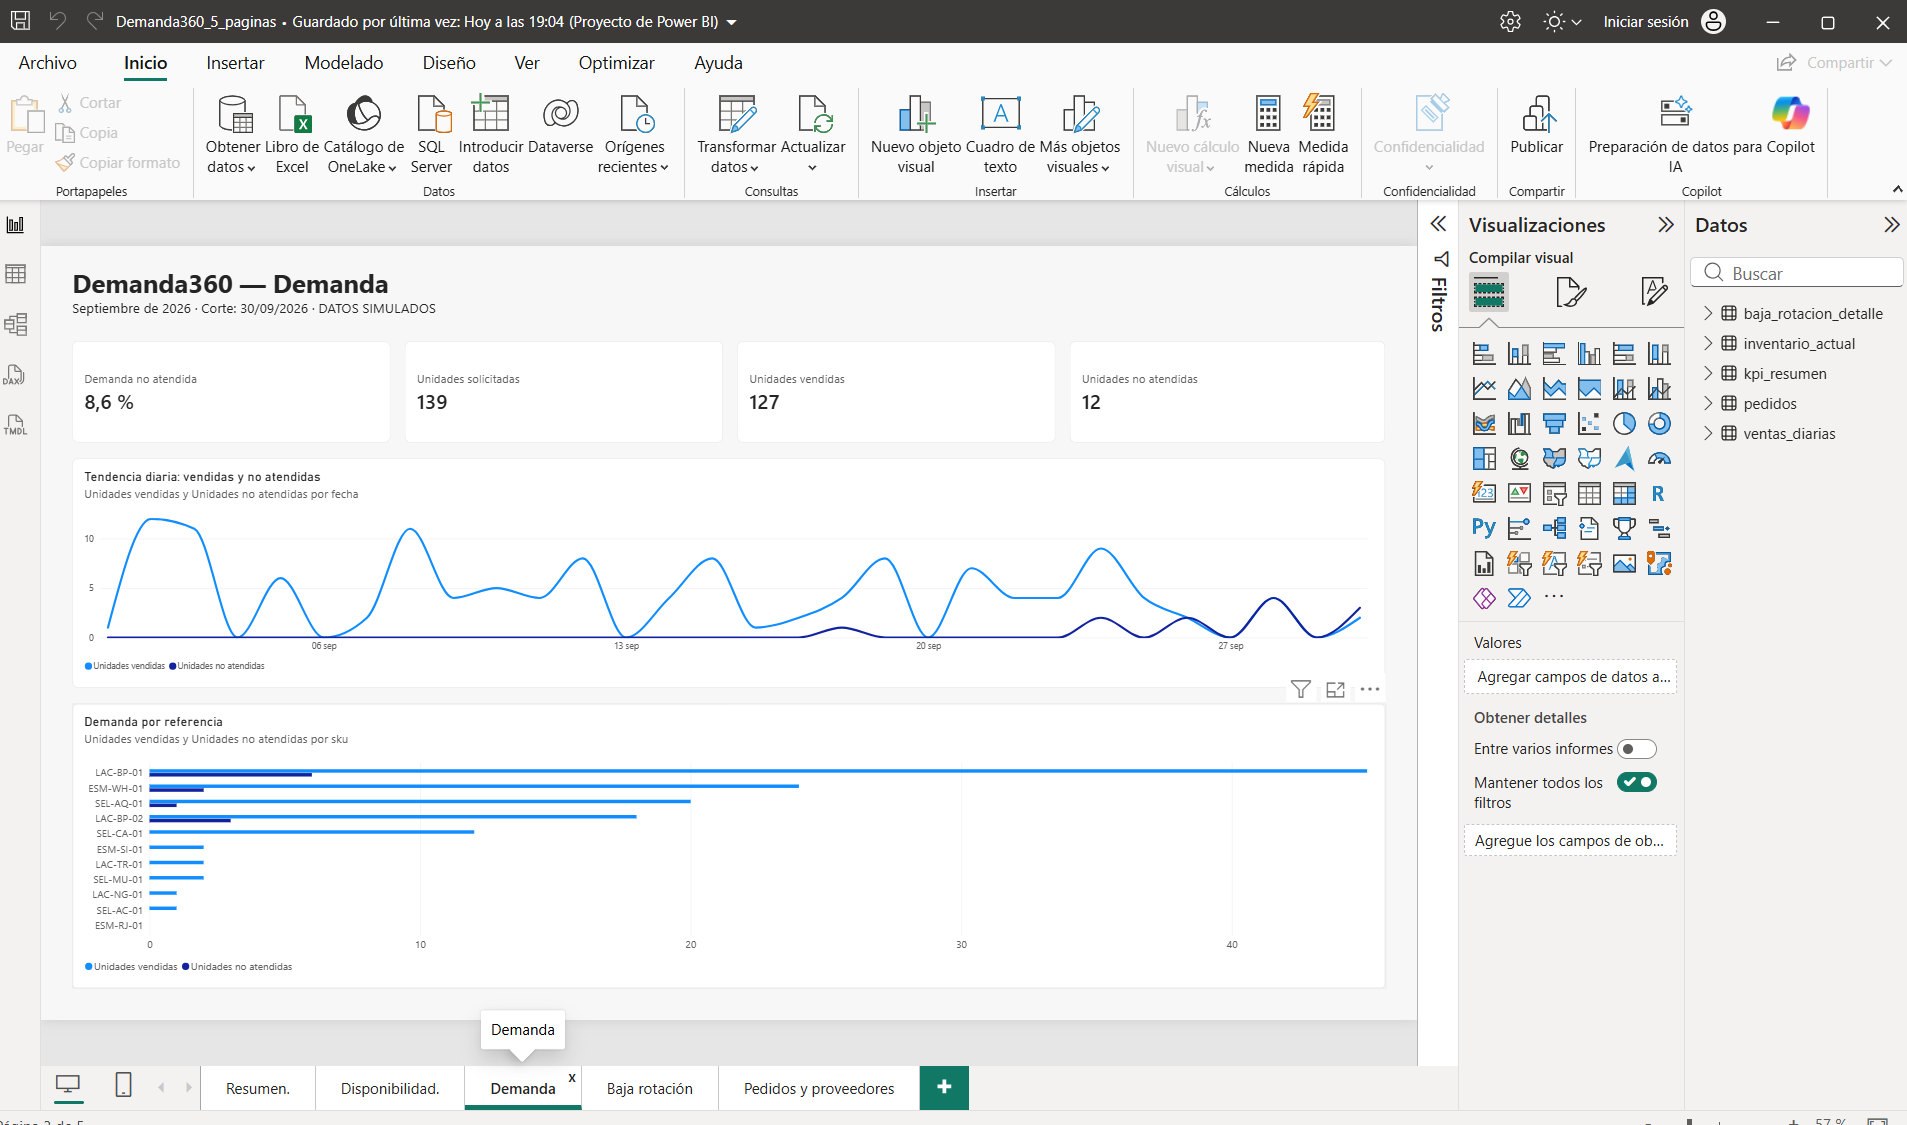

Layout of this report page (visuals, bound fields, positions):
{"tool":"powerbi","page":{"name":"Demanda","canvas":[1920,1080],"ordinal":2},"visuals":[{"type":"textbox","box":[44,26,1832,92],"z":0},{"type":"cardVisual","fields":{"Data":["kpi_resumen.Demanda no atendida"]},"box":[44,132,444,142],"z":1000},{"type":"cardVisual","fields":{"Data":["ventas_diarias.Unidades solicitadas"]},"box":[508,132,444,142],"z":2000},{"type":"cardVisual","fields":{"Data":["ventas_diarias.Unidades vendidas"]},"box":[972,132,444,142],"z":3000},{"type":"cardVisual","fields":{"Data":["ventas_diarias.Unidades no atendidas"]},"box":[1436,132,440,142],"z":4000},{"type":"lineChart","title":"Tendencia diaria: vendidas y no atendidas","fields":{"Category":["ventas_diarias.fecha"],"Y":["ventas_diarias.Unidades vendidas","ventas_diarias.Unidades no atendidas"]},"box":[44,296,1832,320],"z":5000},{"type":"clusteredBarChart","title":"Demanda por referencia","fields":{"Category":["ventas_diarias.sku"],"Y":["ventas_diarias.Unidades vendidas","ventas_diarias.Unidades no atendidas"]},"box":[44,638,1832,398],"z":6000}]}

Visuals, with their boxes on the page's 1920x1080 design canvas (x1, y1, x2, y2). These are canvas units, not pixel positions in the 1907x1125 screenshot, which may show the page scaled, cropped or inside an application window:
textbox: l=44, t=26, r=1876, b=118
cardVisual - kpi_resumen.Demanda no atendida: l=44, t=132, r=488, b=274
cardVisual - ventas_diarias.Unidades solicitadas: l=508, t=132, r=952, b=274
cardVisual - ventas_diarias.Unidades vendidas: l=972, t=132, r=1416, b=274
cardVisual - ventas_diarias.Unidades no atendidas: l=1436, t=132, r=1876, b=274
"Tendencia diaria: vendidas y no atendidas" lineChart: l=44, t=296, r=1876, b=616
"Demanda por referencia" clusteredBarChart: l=44, t=638, r=1876, b=1036
